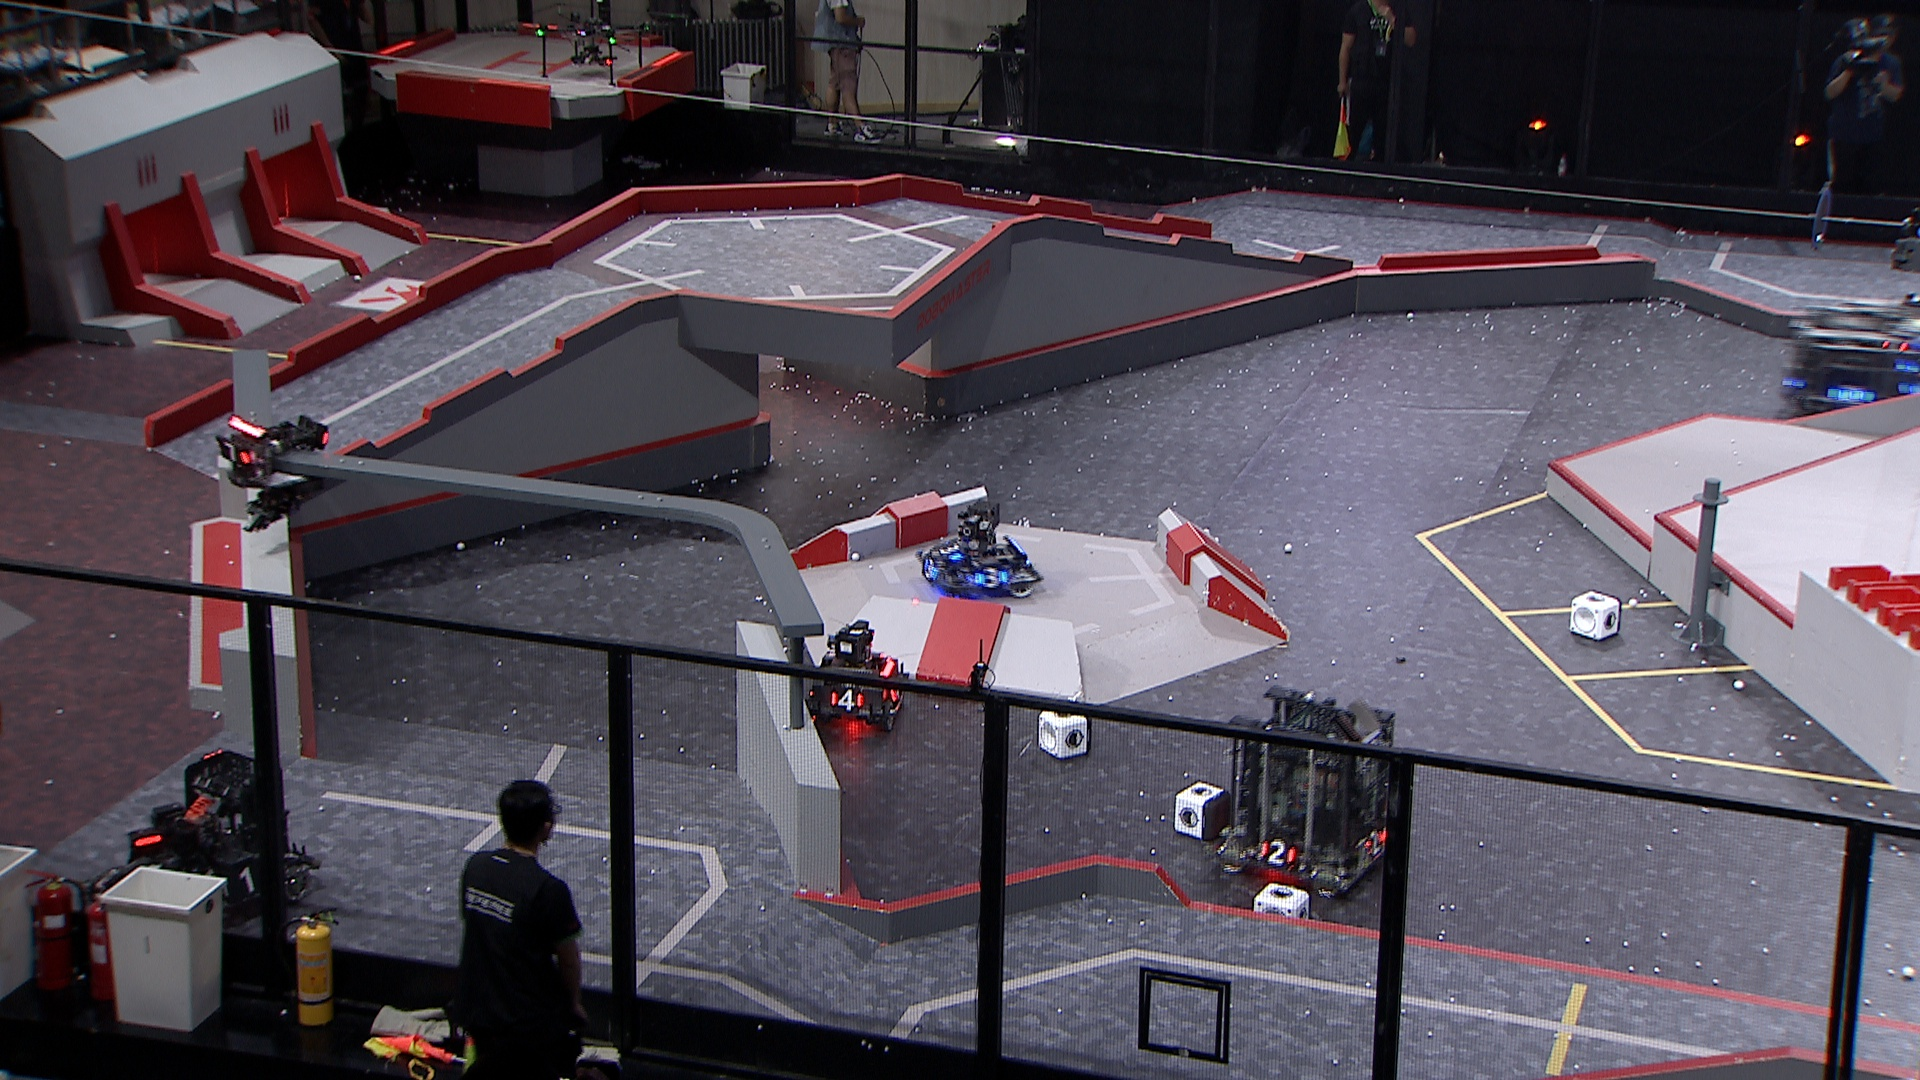armor: (219, 865, 262, 898), (1261, 837, 1298, 869), (1826, 382, 1873, 407), (215, 436, 252, 465), (975, 562, 1011, 589), (828, 688, 866, 712), (938, 541, 964, 564), (1362, 829, 1386, 855), (922, 556, 942, 583)
car: (78, 750, 316, 943), (1218, 684, 1400, 899), (1785, 301, 1920, 436), (915, 500, 1043, 597), (802, 618, 907, 732)
watcher: (214, 414, 332, 533)
